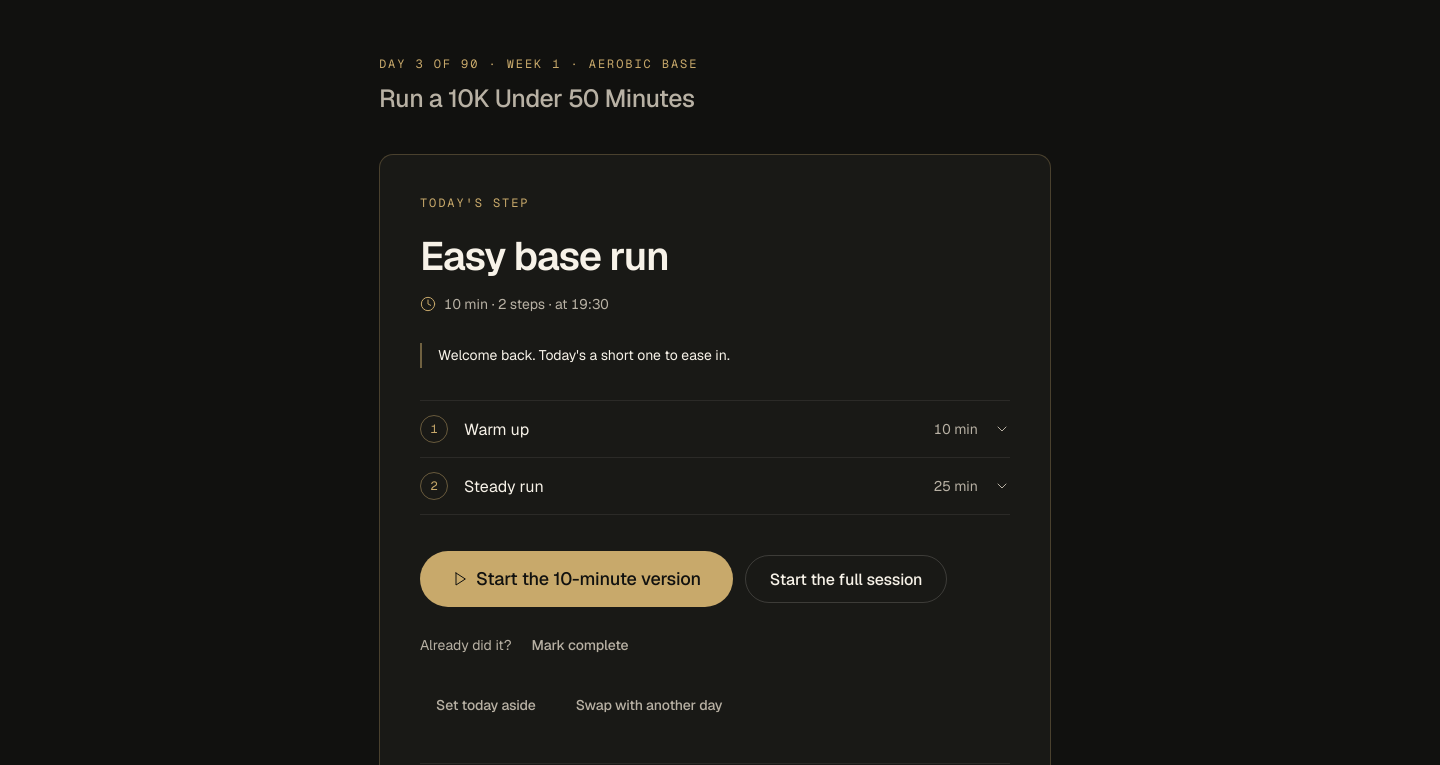
Test: Today › short on time and gentle return (missed sessions M3.2) › gentle-return day: "Start the full session" opens the full session, as Start does
The width and height of the screenshot is (1440, 765).
Click the button "Start the full session" at point(846, 580), box [745,556,947,604]
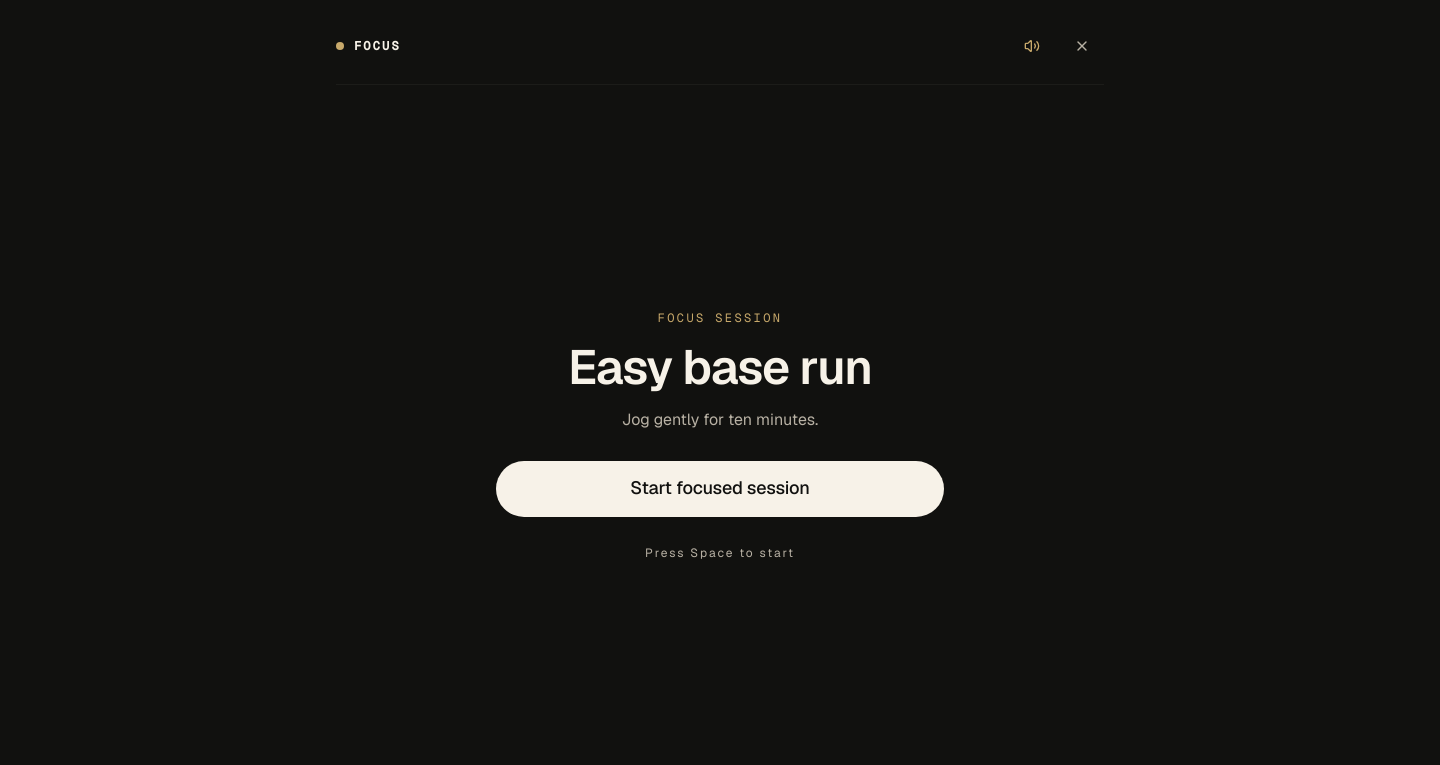
Click the button "Start focused session" at point(720, 488), box [496,460,944,516]
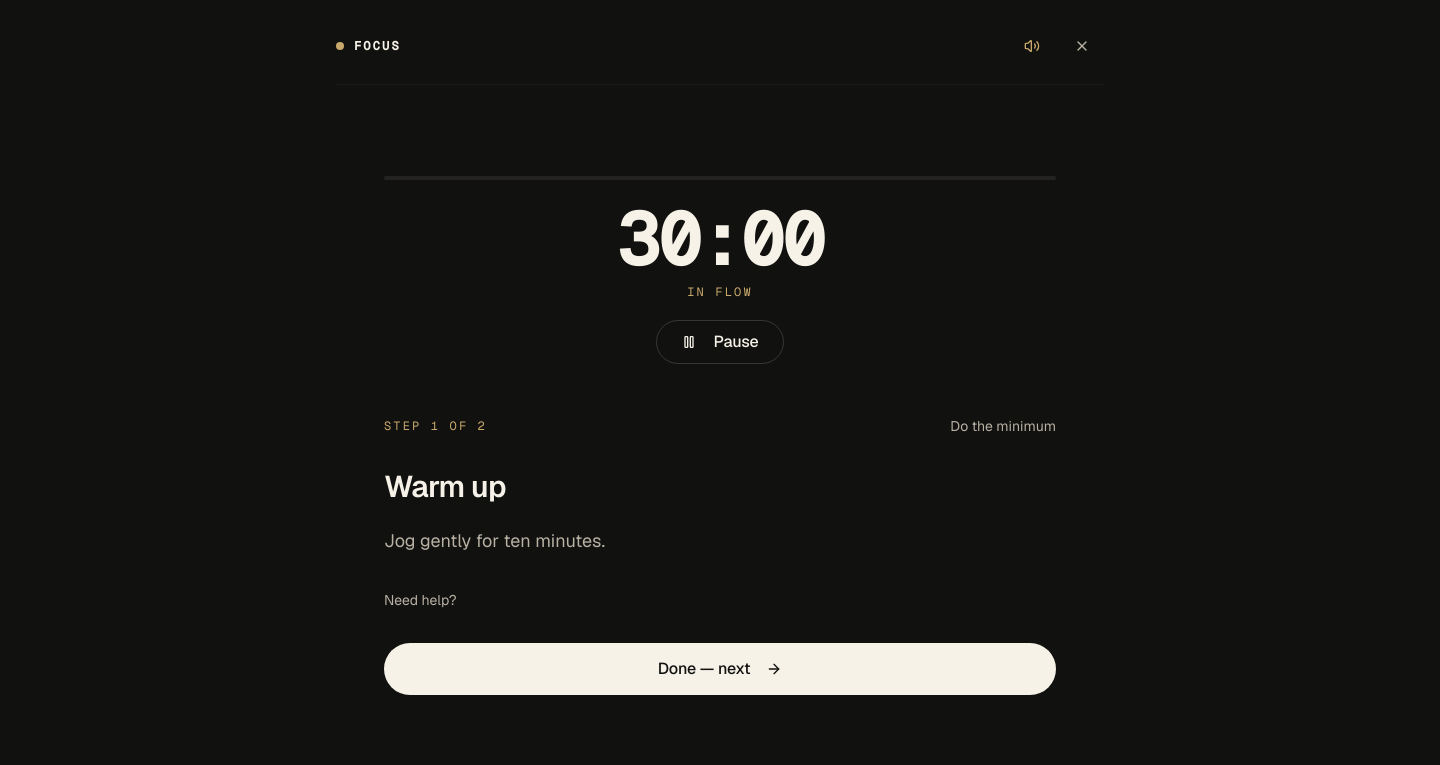
expect the text "Step 1 of 2" is shown: met, box [384,418,487,434]
